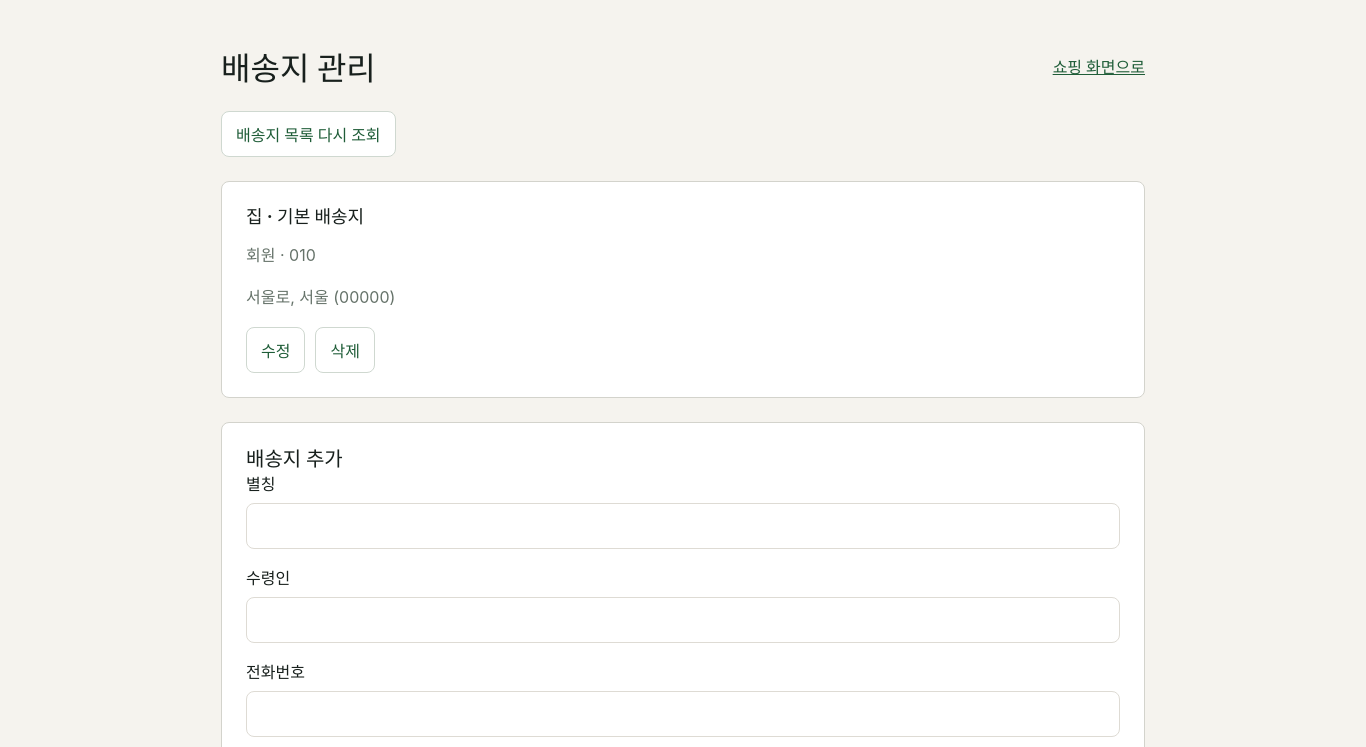
Test case: edits an existing address rather than adding a new one
Check: the heading "집 · 기본 배송지" is shown, box [246,206,364,227]
Click the button with aria-label "집 수정".
click(276, 350)  # box [246,327,306,373]
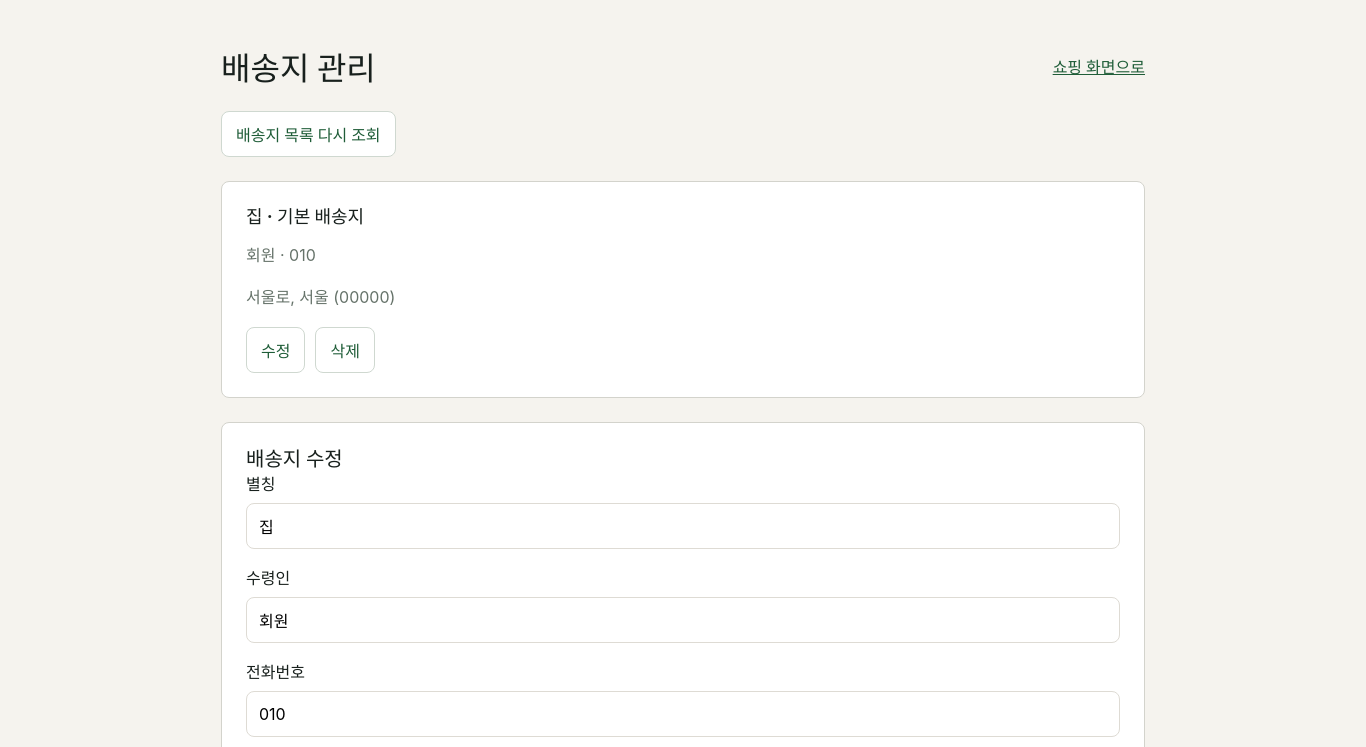
Check: the field labelled "별칭" holds "집"
Replace the text in the field labelled "별칭" with "회사" at point(683, 526), box [246,503,1120,549]
Replace the text in the field labelled "수령인" with "새 수령인" at point(683, 620), box [246,597,1120,643]
Replace the text in the field labelled "전화번호" with "020" at point(683, 714), box [246,691,1120,737]
(page scrolled)
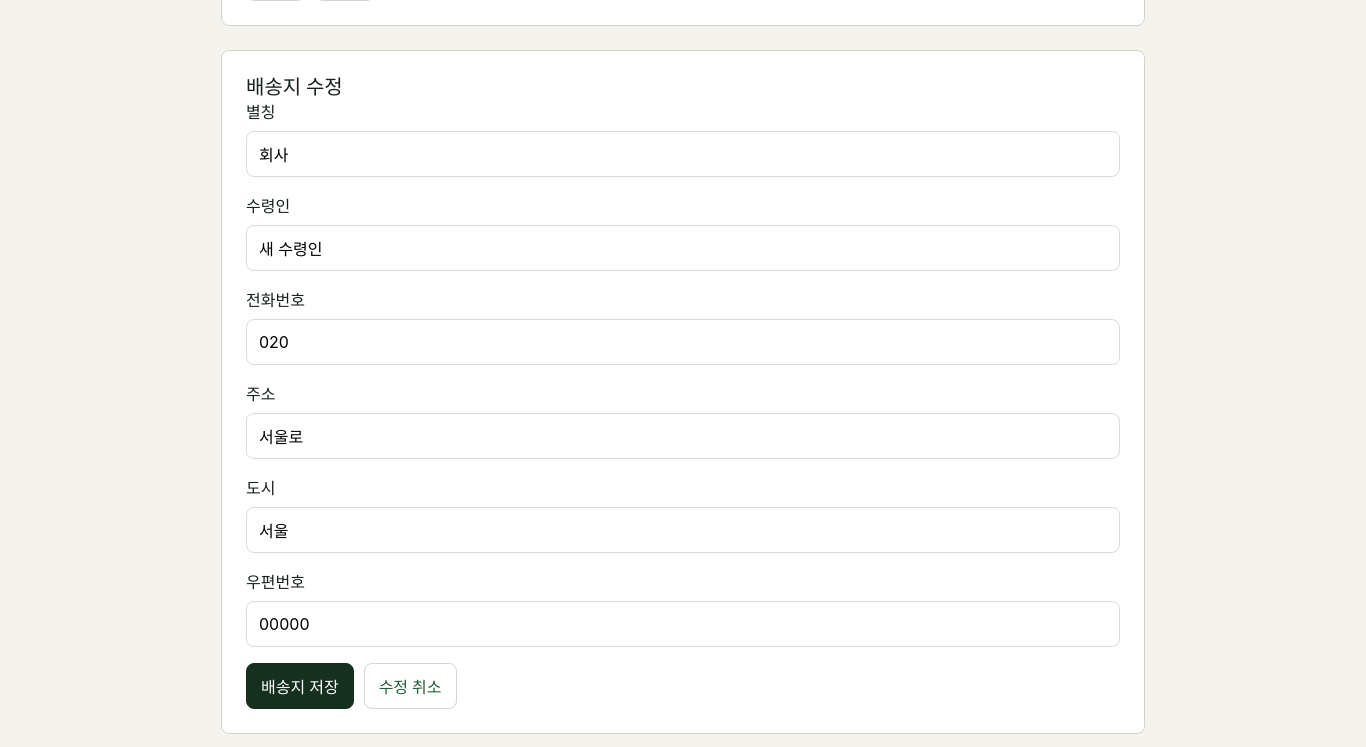
Replace the text in the field labelled "주소" with "새 주소" at point(683, 436), box [246,413,1120,459]
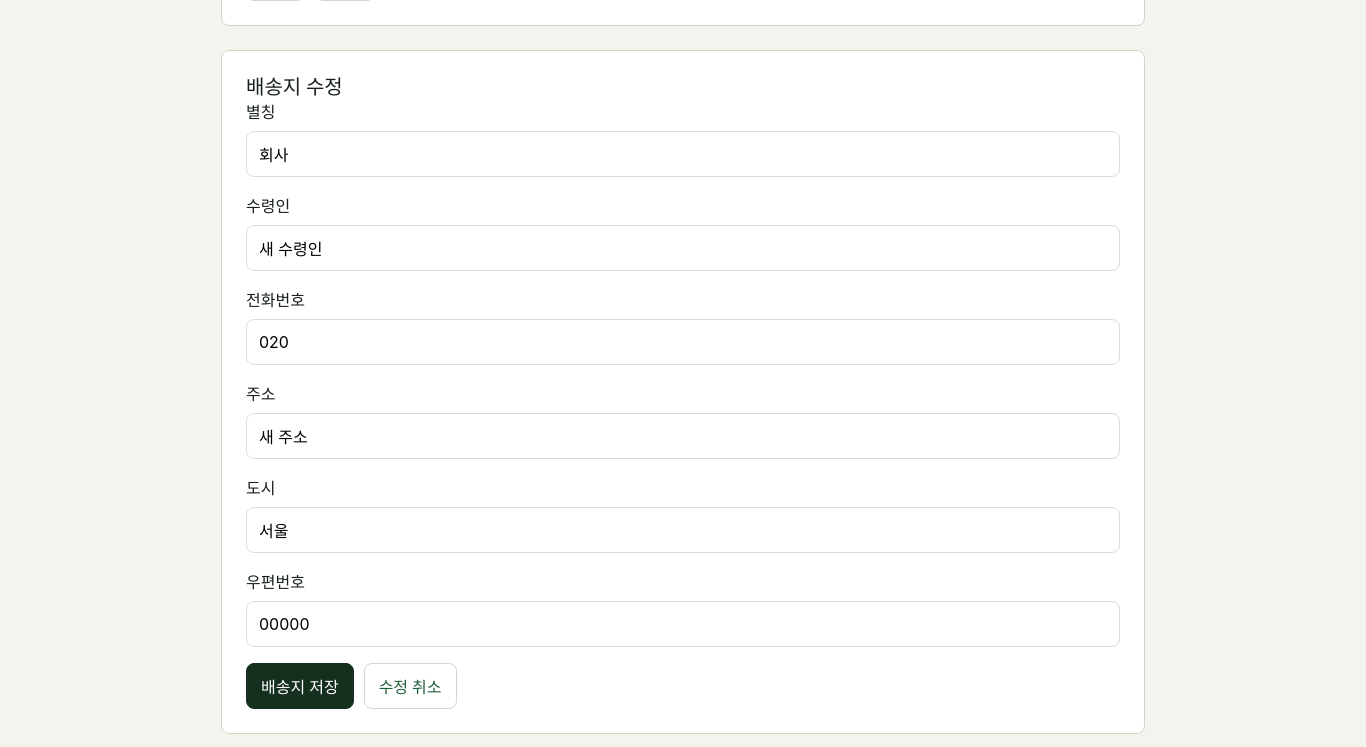
Replace the text in the field labelled "도시" with "부산" at point(683, 530), box [246,507,1120,553]
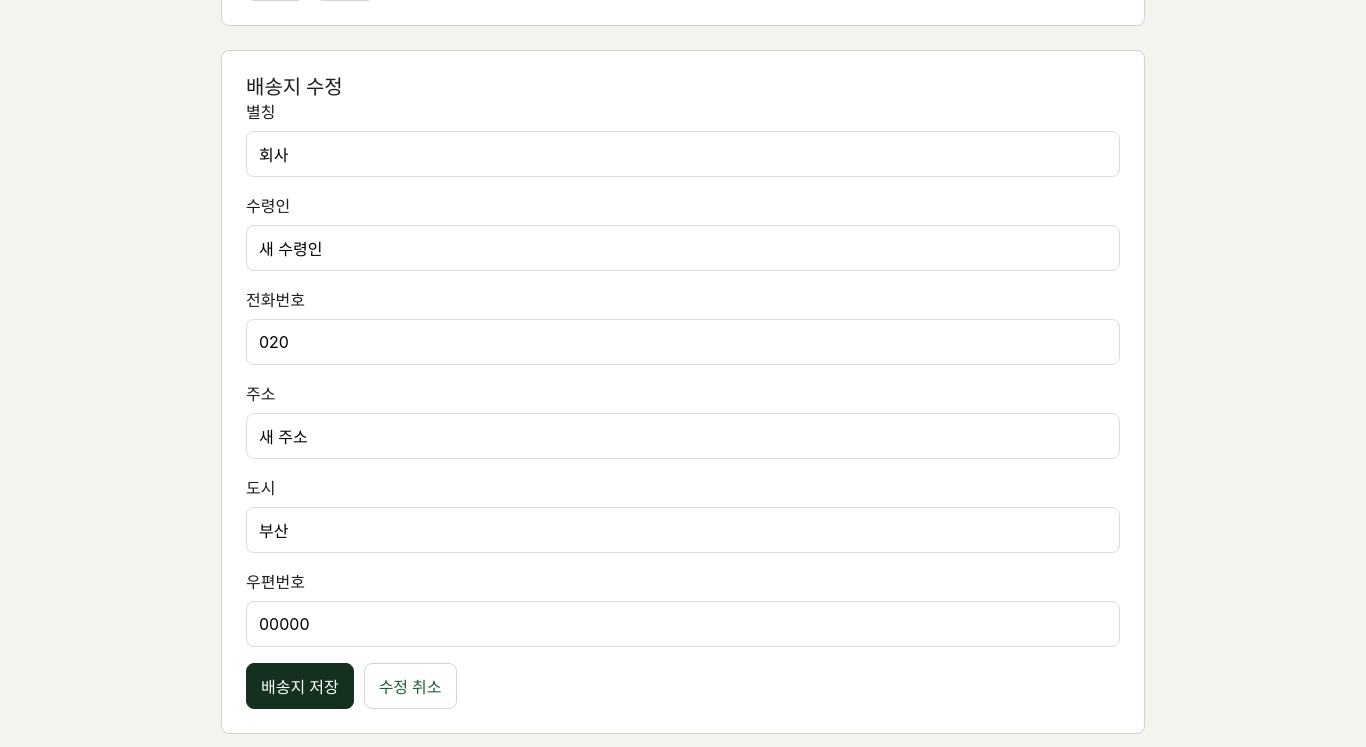
Replace the text in the field labelled "우편번호" with "99999" at point(683, 624), box [246,601,1120,647]
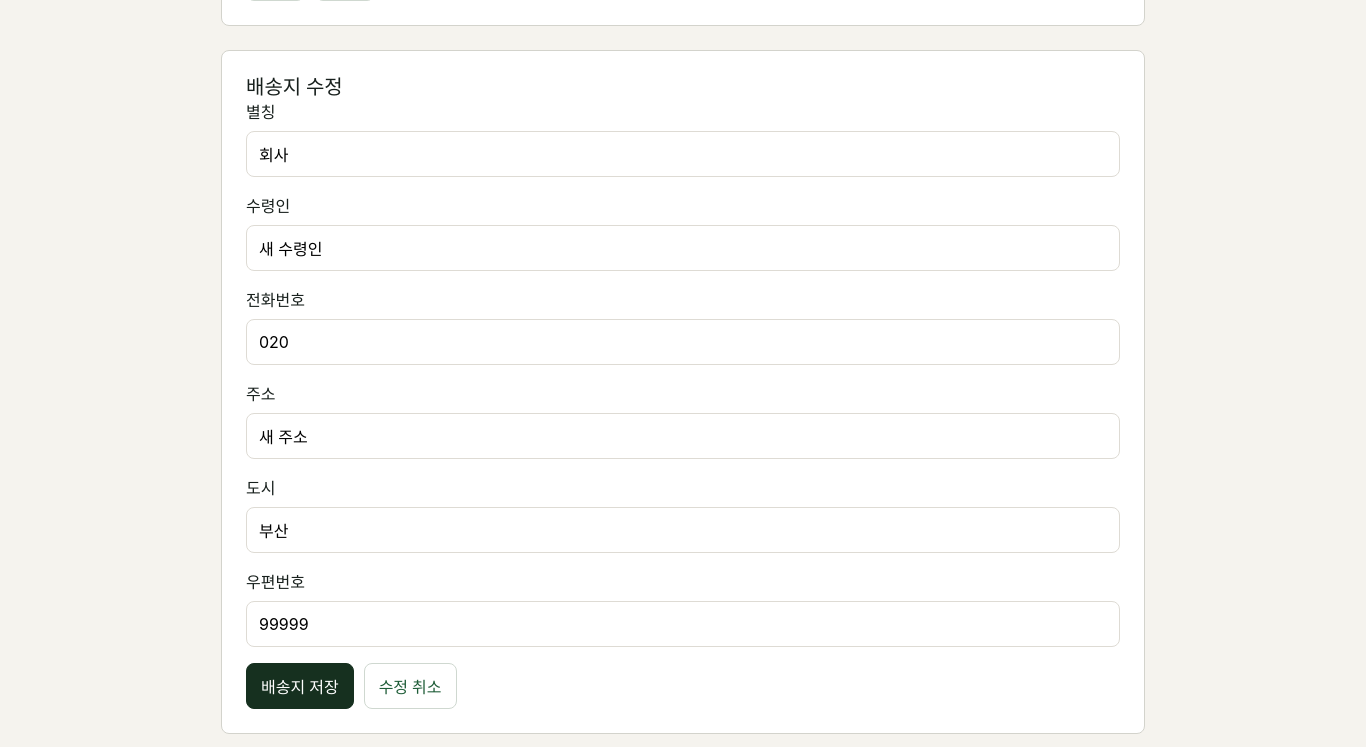
Click the button "배송지 저장".
click(300, 686)  # box [246,663,354,709]
(page scrolled)
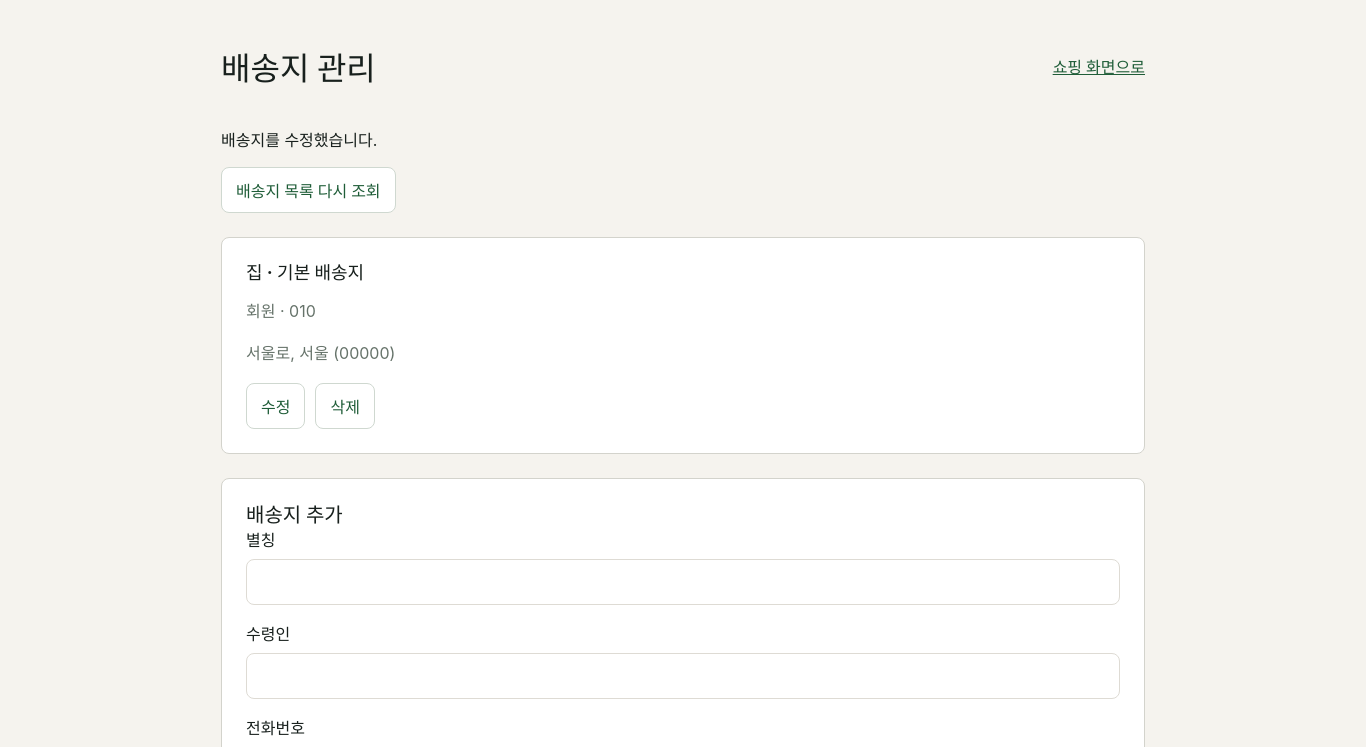
Check: the text "배송지를 수정했습니다." is shown, box [221,130,377,150]
